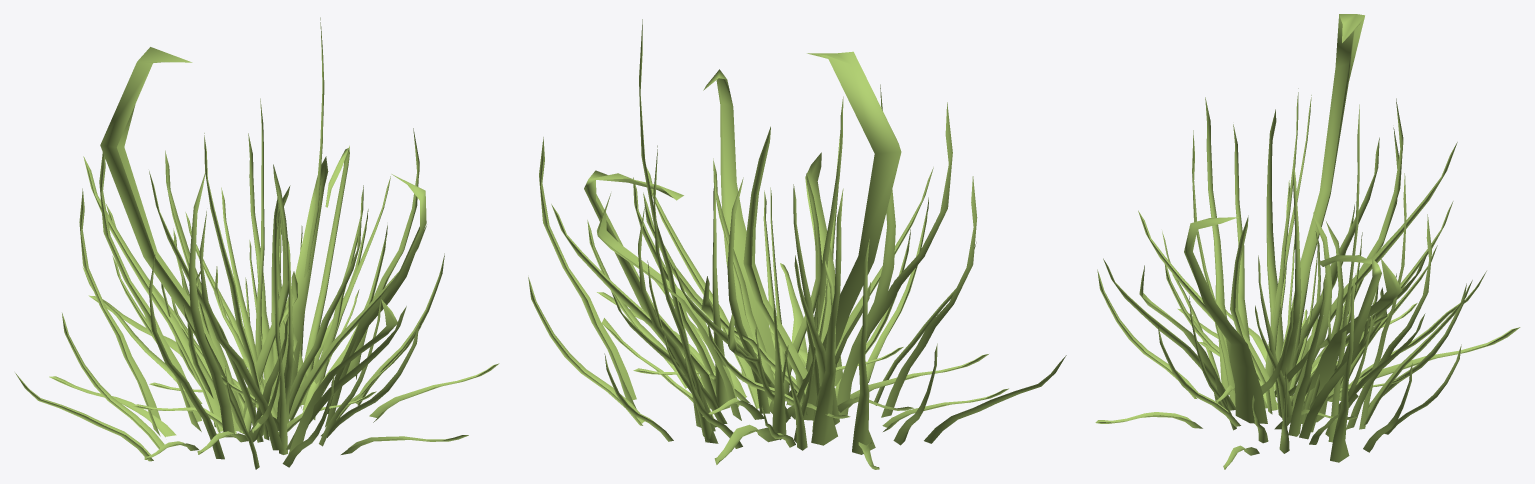
Rendered from GrassClumpStyle_3.glb.
3 views of the same model, side by side, from view 1: azimuth 30°, elevation 25°; view 2: azimuth 150°, elevation 25°; view 3: azimuth 270°, elevation 25° (orthographic). The views are drawn at different scales.
Parts seen in each view (by area): view 1: GrassClumpStyle_3; view 2: GrassClumpStyle_3; view 3: GrassClumpStyle_3.
Boxes of the visible parts, x1,y1,x2,y2 form: GrassClumpStyle_3: (15, 17, 499, 469); GrassClumpStyle_3: (528, 19, 1066, 469); GrassClumpStyle_3: (1095, 14, 1520, 469).
Bounding box in the file's own units: 0.9285 × 0.7381 × 0.777.
